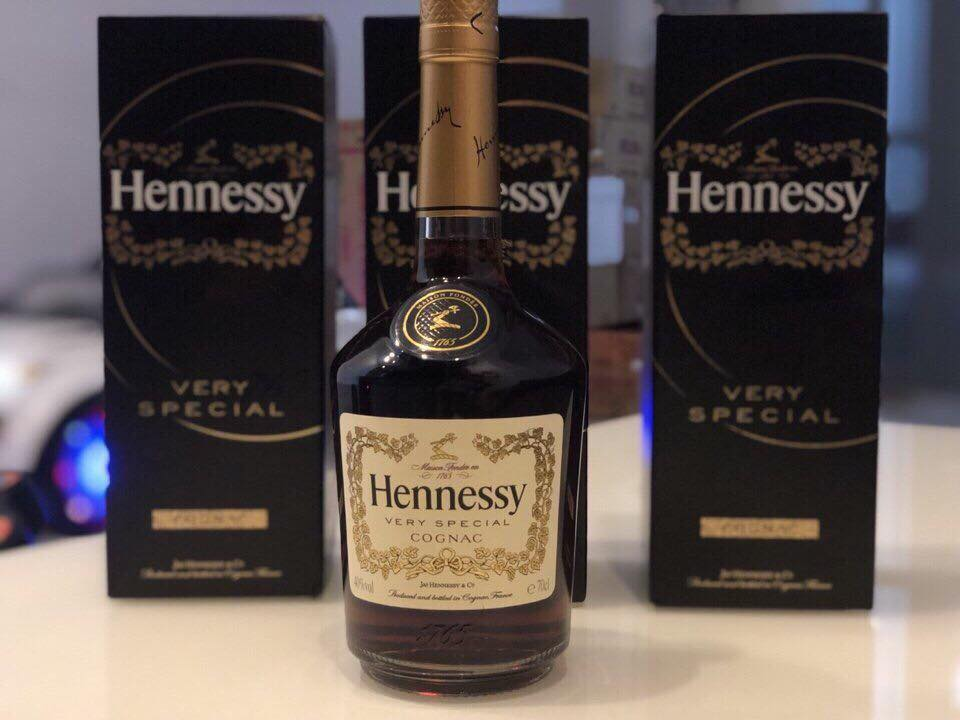Hennessy: (303, 1, 600, 709)
